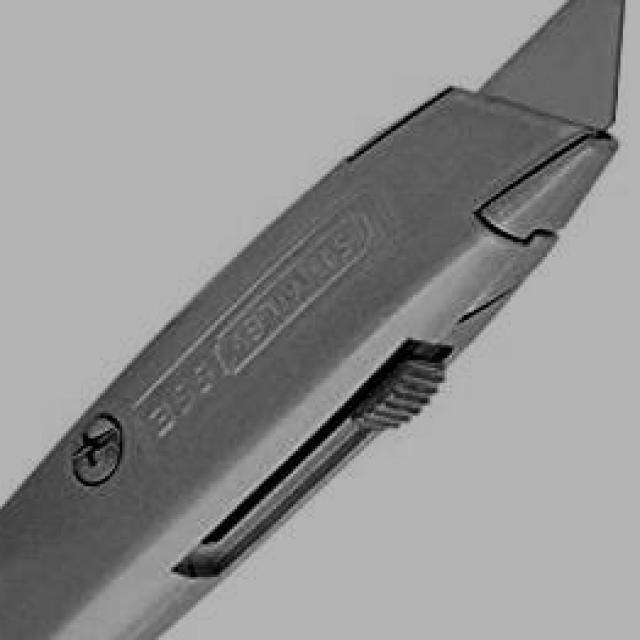estilete: (0, 0, 621, 640)
